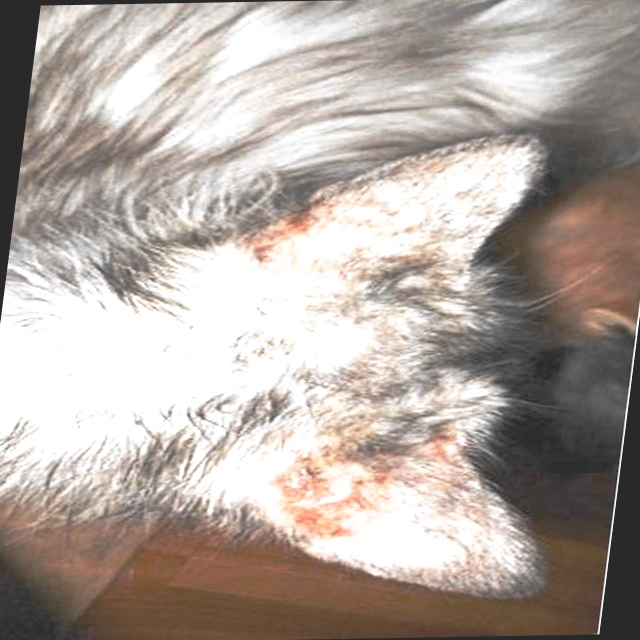ringworm: (273, 429, 432, 551), (233, 185, 372, 265)
